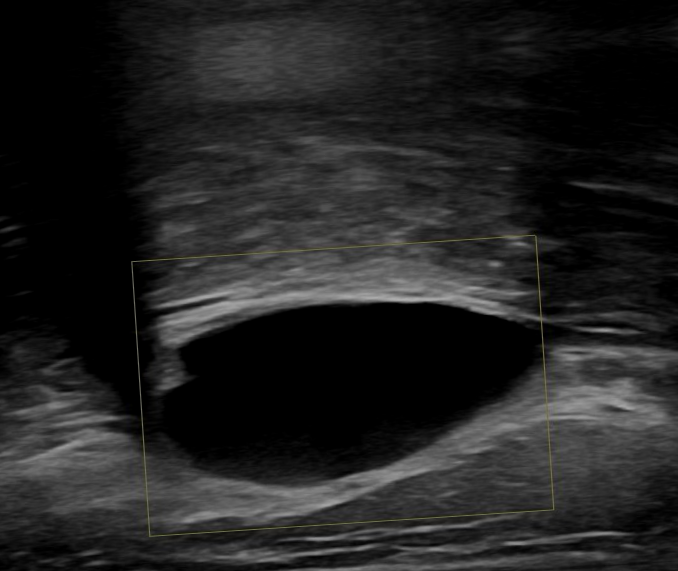Benign: (176, 293, 517, 471)
